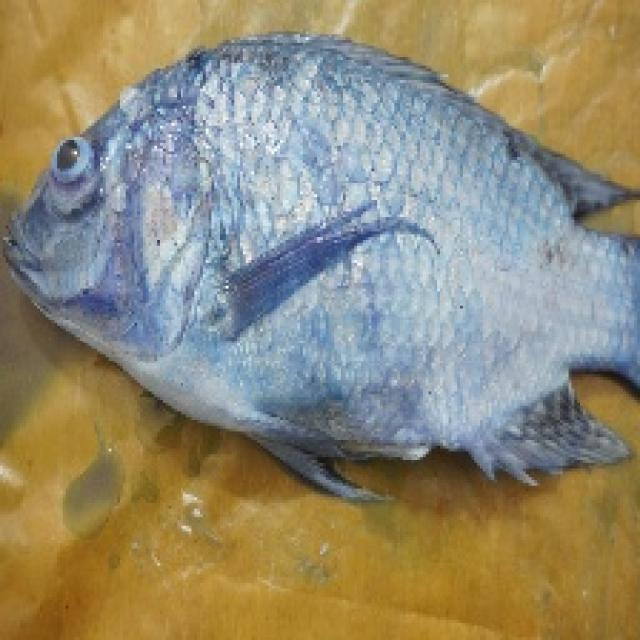Non-Fresh: (78, 49, 588, 453), (42, 125, 121, 216)
